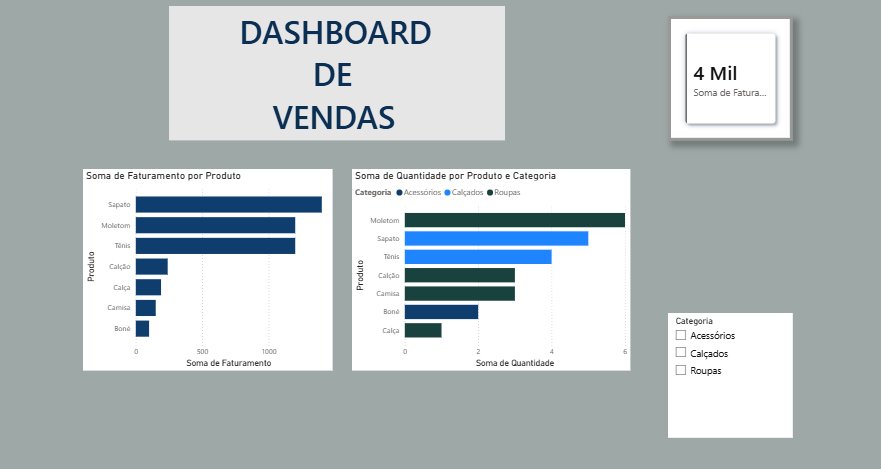

This screenshot's page, from the dashboard's own definition file:
{"tool":"powerbi","page":{"name":"Página 1","canvas":[1280,720],"ordinal":0},"visuals":[{"type":"barChart","fields":{"Y":["Sum(Página1.Quantidade)"],"Category":["Página1.Produto"],"Series":["Página1.Categoria"]},"box":[496,272,464,336],"z":0},{"type":"cardVisual","fields":{"Data":["Sum(Página1.Faturamento)"]},"box":[1024,16,208,208],"z":1000},{"type":"barChart","fields":{"Category":["Página1.Produto"],"Y":["Sum(Página1.Faturamento)"]},"box":[48,272,416,336],"z":2000},{"type":"slicer","fields":{"Values":["Página1.Categoria"]},"box":[1024,512,208,208],"z":3000},{"type":"textbox","box":[192,0,560,224],"z":4000}]}

Visuals, with their boxes on the page's 1280x720 design canvas (x1, y1, x2, y2). These are canvas units, not pixel positions in the 881x469 screenshot, which may show the page scaled, cropped or inside an application window:
barChart - Sum(Página1.Quantidade) x Página1.Produto: (496,272,960,608)
cardVisual - Sum(Página1.Faturamento): (1024,16,1232,224)
barChart - Página1.Produto x Sum(Página1.Faturamento): (48,272,464,608)
slicer - Página1.Categoria: (1024,512,1232,720)
textbox: (192,0,752,224)
